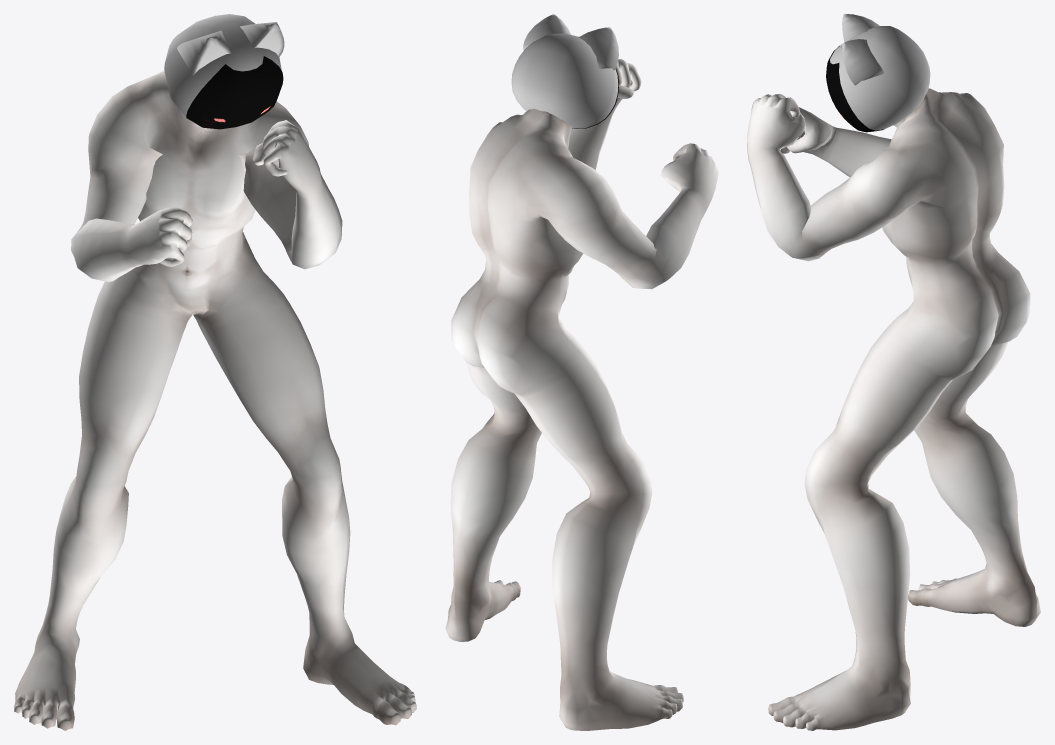
The picture shows the model from 3 angles, left to right: view 1: azimuth 30°, elevation 25°; view 2: azimuth 150°, elevation 25°; view 3: azimuth 270°, elevation 25°; orthographic projection. The views are drawn at different scales.
Visible parts, largest first — view 1: Muscle_Body, Cat_Head, ______?001; view 2: Muscle_Body, Cat_Head; view 3: Muscle_Body, Cat_Head, ______?001.
Boxes of the visible parts, x1,y1,x2,y2 form: Muscle_Body: [14, 71, 416, 730]; Cat_Head: [164, 14, 284, 116]; ______?001: [186, 56, 283, 129]; Muscle_Body: [445, 59, 718, 730]; Cat_Head: [511, 14, 618, 128]; Muscle_Body: [747, 88, 1040, 730]; Cat_Head: [830, 14, 930, 130]; ______?001: [826, 45, 883, 132].
Bounding box in the file's own units: 12.71 × 26.7 × 11.14.
